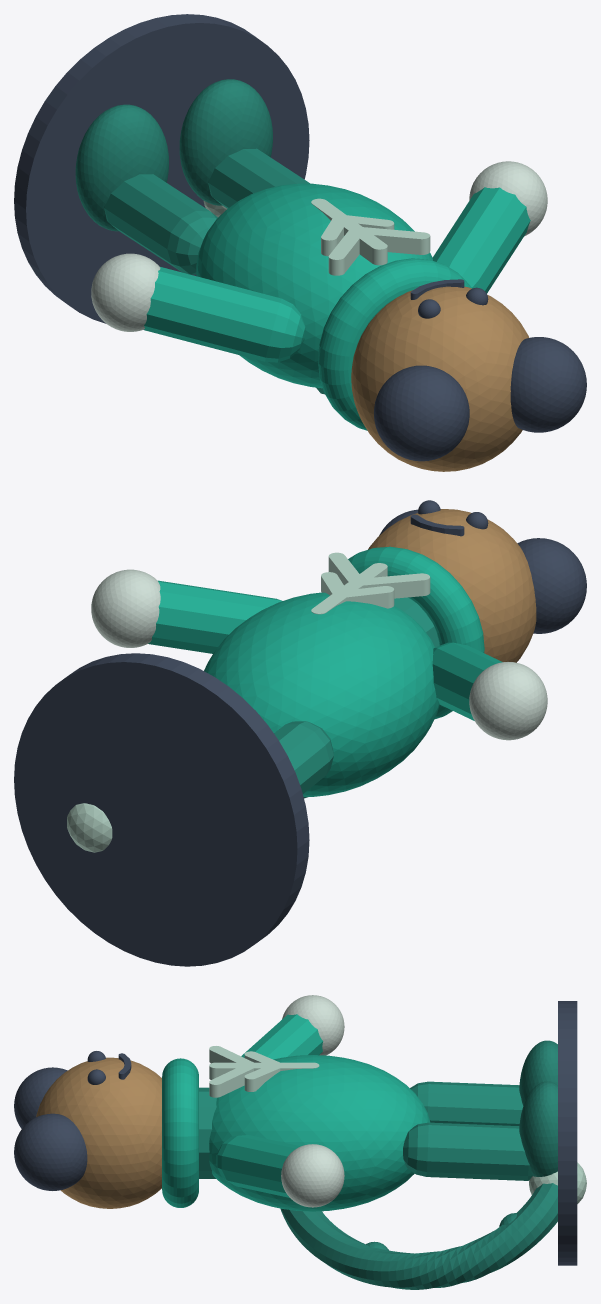
The model's file is neuronaut3d-dendra.glb.
3 renders of one model, top to bottom at view 1: azimuth 30°, elevation 25°; view 2: azimuth 150°, elevation 25°; view 3: azimuth 270°, elevation 25°, orthographic. The views are drawn at different scales.
Visible parts, largest first — view 1: geometry_0, geometry_12, geometry_5, geometry_6, geometry_11, geometry_13, geometry_2, geometry_4, geometry_1, geometry_8, geometry_14, geometry_18 (+3 smaller); view 2: geometry_0, geometry_5, geometry_12, geometry_8, geometry_11, geometry_7, geometry_9, geometry_13, geometry_18, geometry_6, geometry_1, geometry_23 (+1 smaller); view 3: geometry_5, geometry_12, geometry_19, geometry_3, geometry_0, geometry_11, geometry_14, geometry_1, geometry_8, geometry_9, geometry_4, geometry_18 (+6 smaller).
Part boxes in pixels (<box>): geometry_0: <box>14,14,309,323</box>; geometry_12: <box>351,286,529,471</box>; geometry_5: <box>196,183,432,388</box>; geometry_6: <box>143,267,305,362</box>; geometry_11: <box>318,258,471,430</box>; geometry_13: <box>374,365,469,461</box>; geometry_2: <box>75,104,168,231</box>; geometry_4: <box>179,79,272,205</box>; geometry_1: <box>104,174,217,274</box>; geometry_8: <box>432,187,530,293</box>; geometry_14: <box>510,337,586,432</box>; geometry_18: <box>311,198,430,275</box>; geometry_0: <box>14,653,309,966</box>; geometry_5: <box>204,592,439,796</box>; geometry_12: <box>368,509,536,662</box>; geometry_8: <box>148,580,282,653</box>; geometry_11: <box>348,546,484,718</box>; geometry_7: <box>469,662,547,740</box>; geometry_9: <box>91,569,160,647</box>; geometry_13: <box>517,538,586,633</box>; geometry_18: <box>311,552,430,614</box>; geometry_6: <box>432,642,502,720</box>; geometry_1: <box>274,721,333,793</box>; geometry_23: <box>67,803,112,852</box>; geometry_5: <box>209,1055,430,1211</box>; geometry_12: <box>36,1057,161,1208</box>; geometry_19: <box>280,1183,557,1289</box>; geometry_3: <box>403,1122,532,1180</box>; geometry_0: <box>558,1001,577,1265</box>; geometry_11: <box>162,1058,198,1207</box>; geometry_14: <box>14,1113,87,1190</box>; geometry_1: <box>410,1081,523,1125</box>; geometry_8: <box>216,1135,300,1197</box>; geometry_9: <box>281,1144,344,1207</box>; geometry_4: <box>519,1081,557,1176</box>; geometry_18: <box>209,1046,319,1097</box>.
Size of the model in its own units: 47.2 by 30 by 65.
